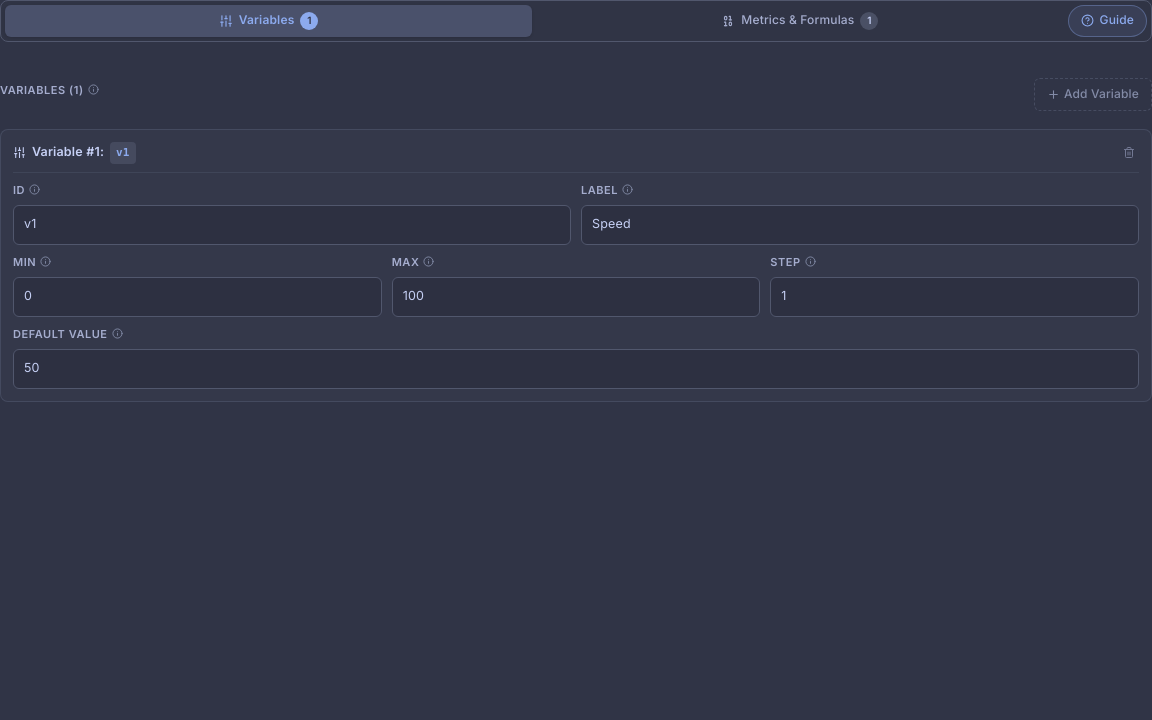
VisualFormEditor › renders formula sandbox form editor for formula-sandbox type
Check: the element with test id "formula-sandbox-form-editor" is shown, box left=0, top=0, right=1151, bottom=402
Check: the element with test id "fs-sub-tabs" is shown, box left=0, top=0, right=1151, bottom=42
Note: Switch to Metrics tab
Click the button with test id "fs-tab-metrics" at (800, 21), box left=536, top=5, right=1064, bottom=36
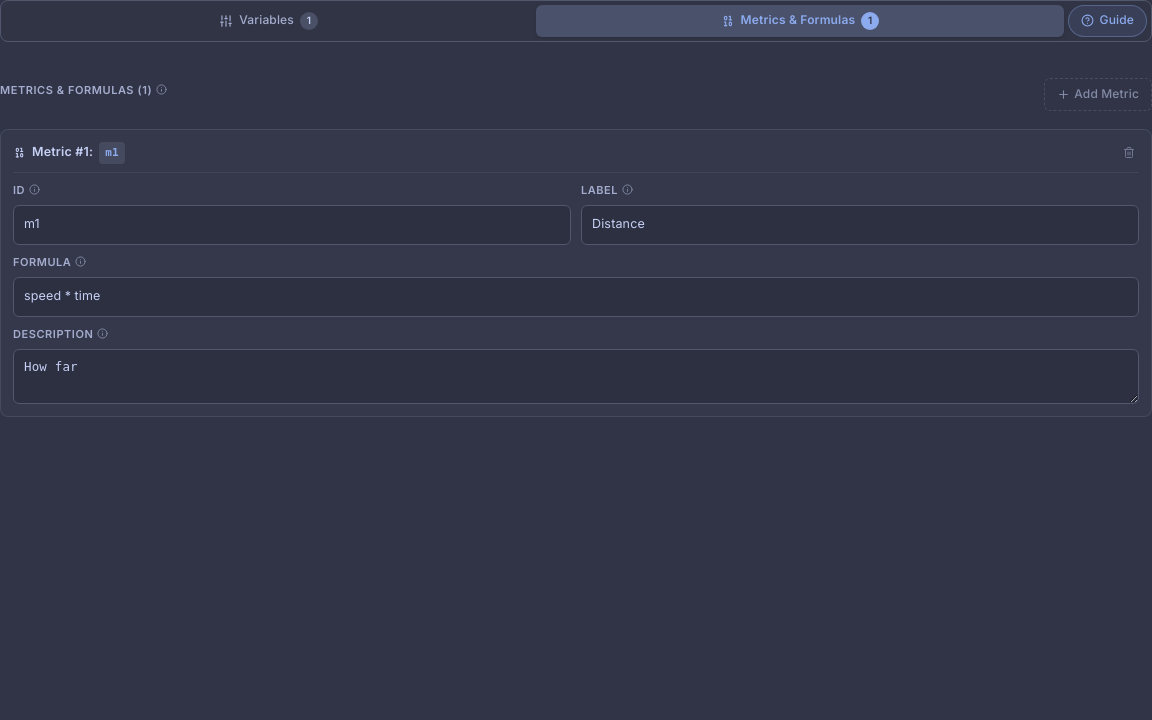
Check: the element with test id "fs-metric-0" is shown, box left=0, top=129, right=1151, bottom=417
Check: the button with test id "fs-add-metric" is shown, box left=1044, top=78, right=1151, bottom=111
Note: Test guide button
Click the button with test id "formula-editor-help-btn" at (1107, 21), box left=1068, top=5, right=1147, bottom=36
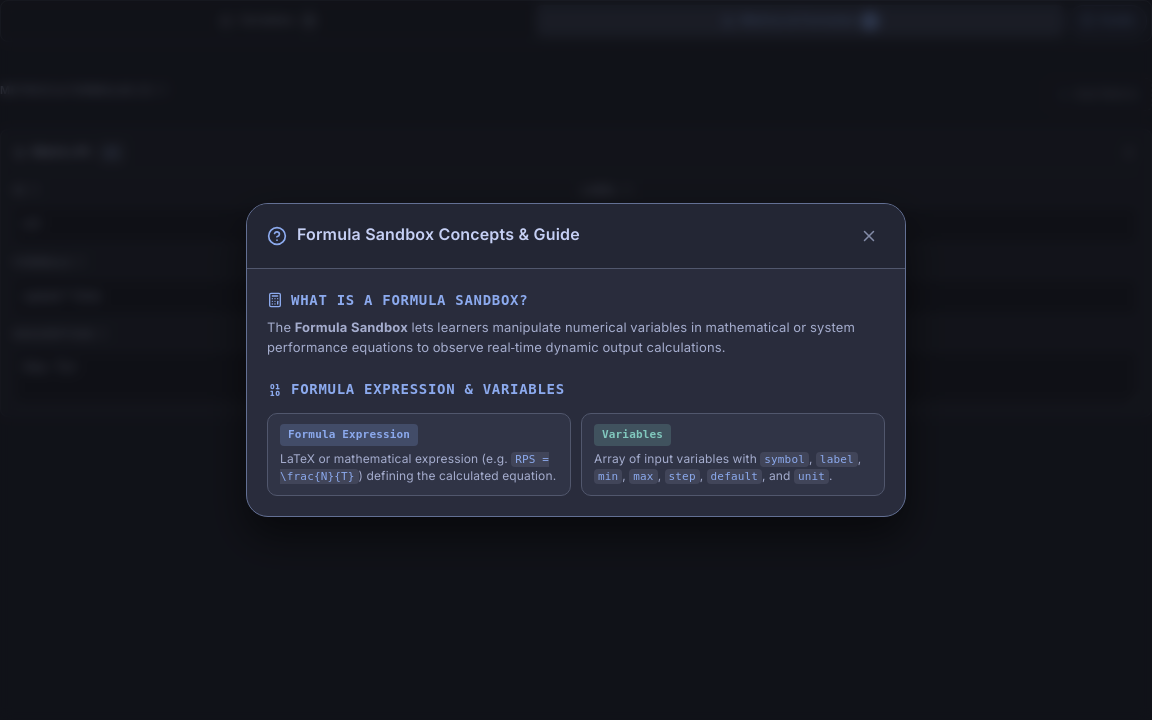
Check: the dialog with test id "fm-help-modal" is shown, box left=246, top=202, right=906, bottom=518
